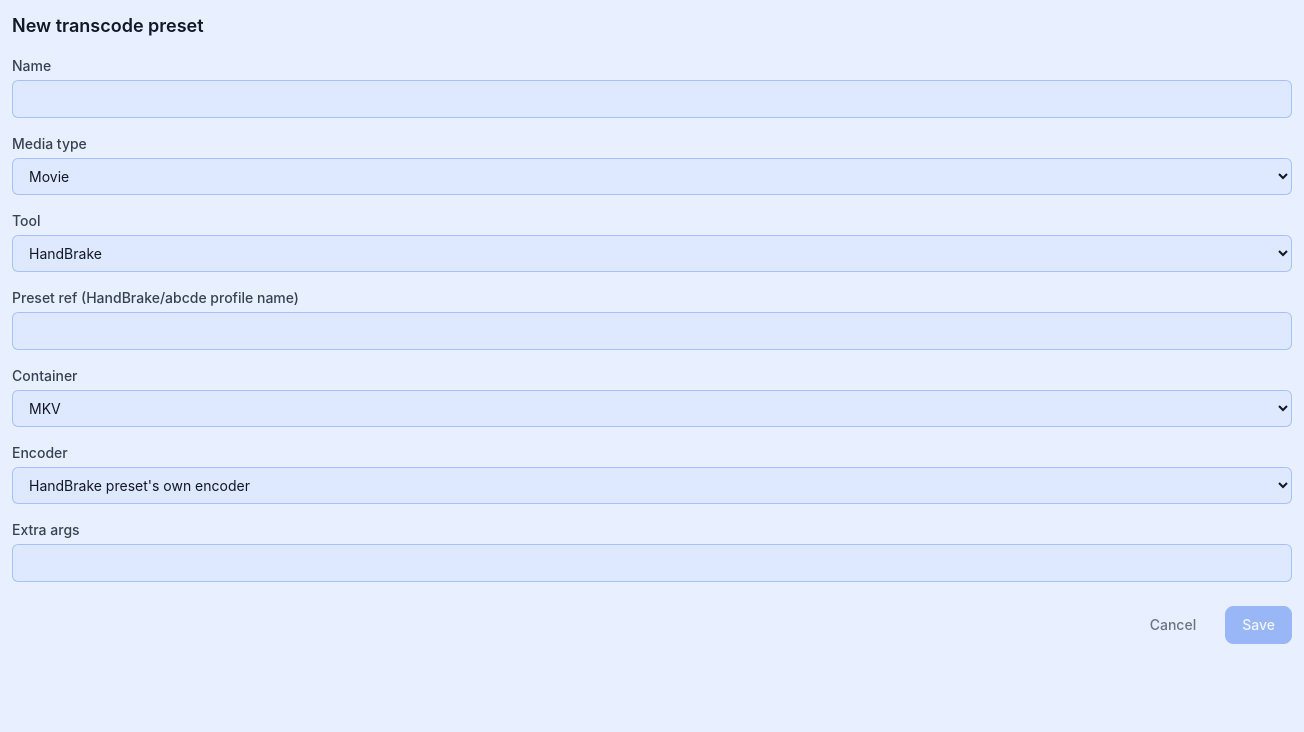
Test: encoder picker › resets a chosen encoder back to preset when the tool changes to abcde
Step 1. Select "Any GPU H.265 (no verified GPU; runs on the CPU)" in the dropdown with test id "tp-encoder" → coordinates (652, 486), box x1=12 y1=467 x2=1292 y2=504
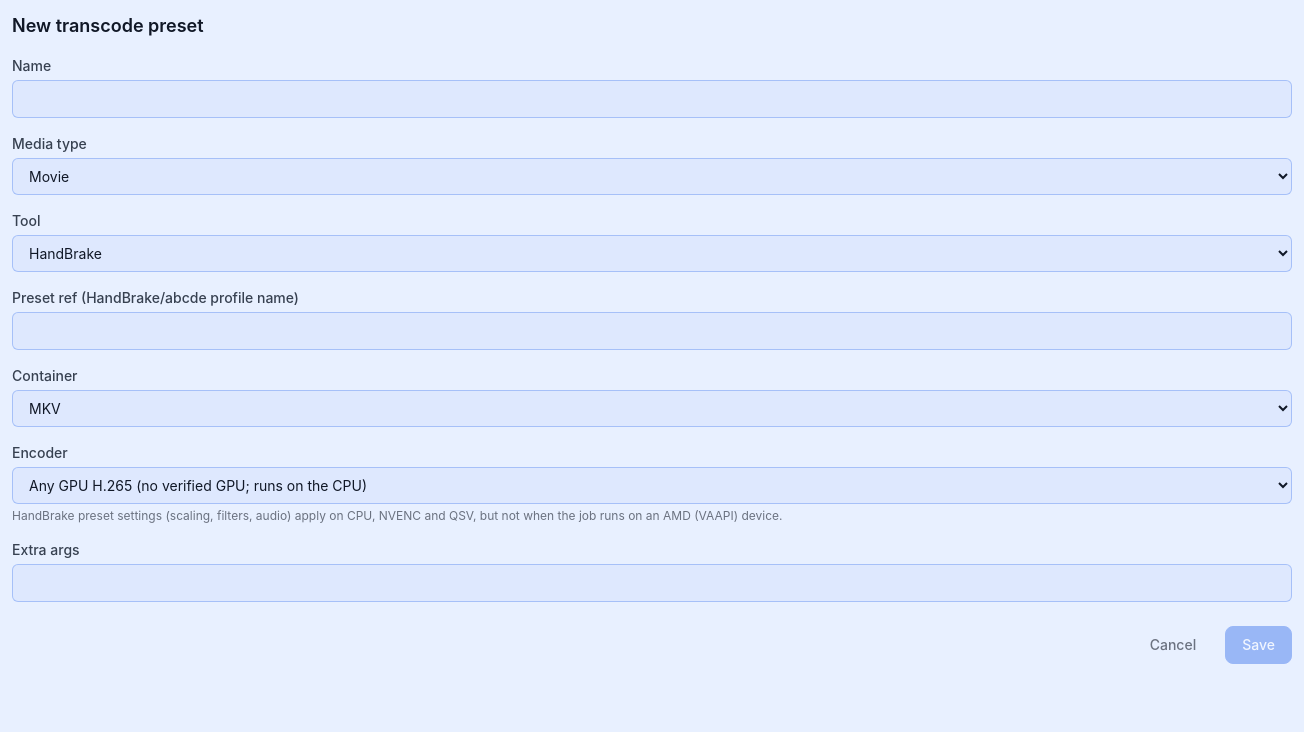
Step 2. Select "abcde" in the dropdown with test id "tp-tool" → coordinates (652, 254), box x1=12 y1=235 x2=1292 y2=272
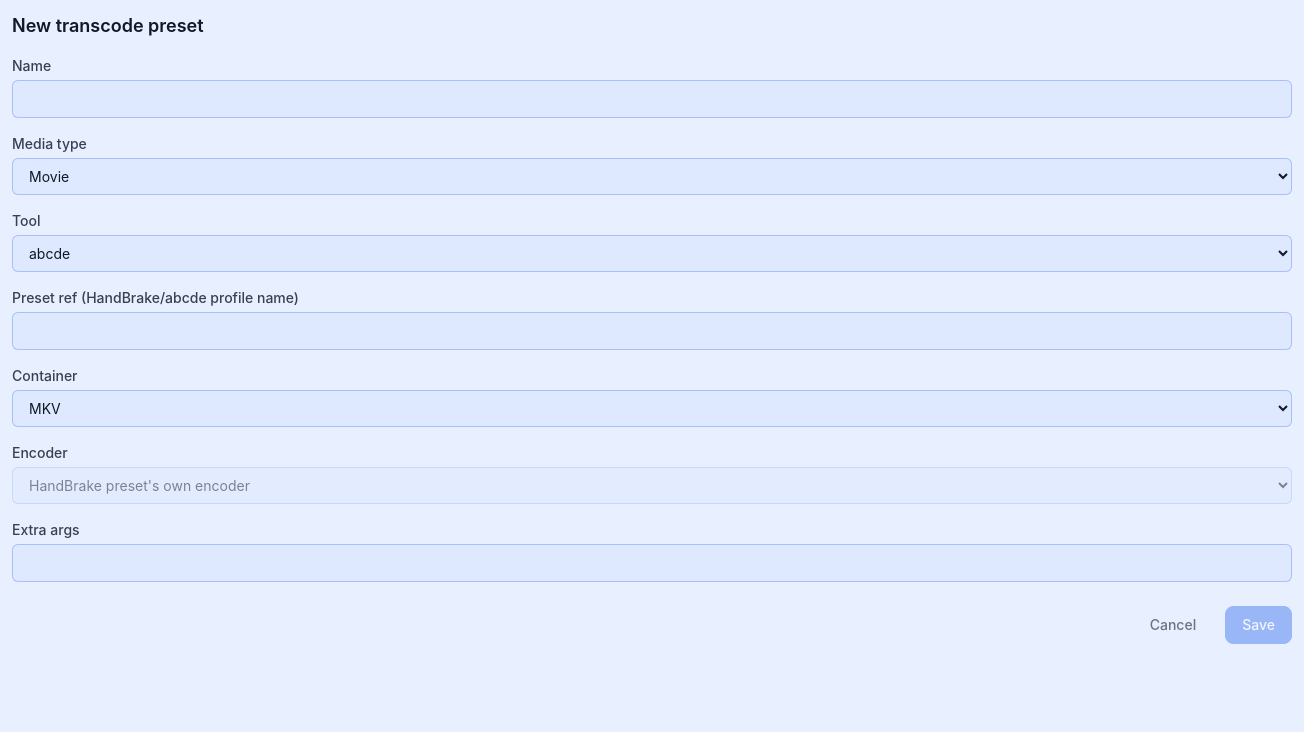
Check: the dropdown with test id "tp-encoder" is disabled, box x1=12 y1=467 x2=1292 y2=504
